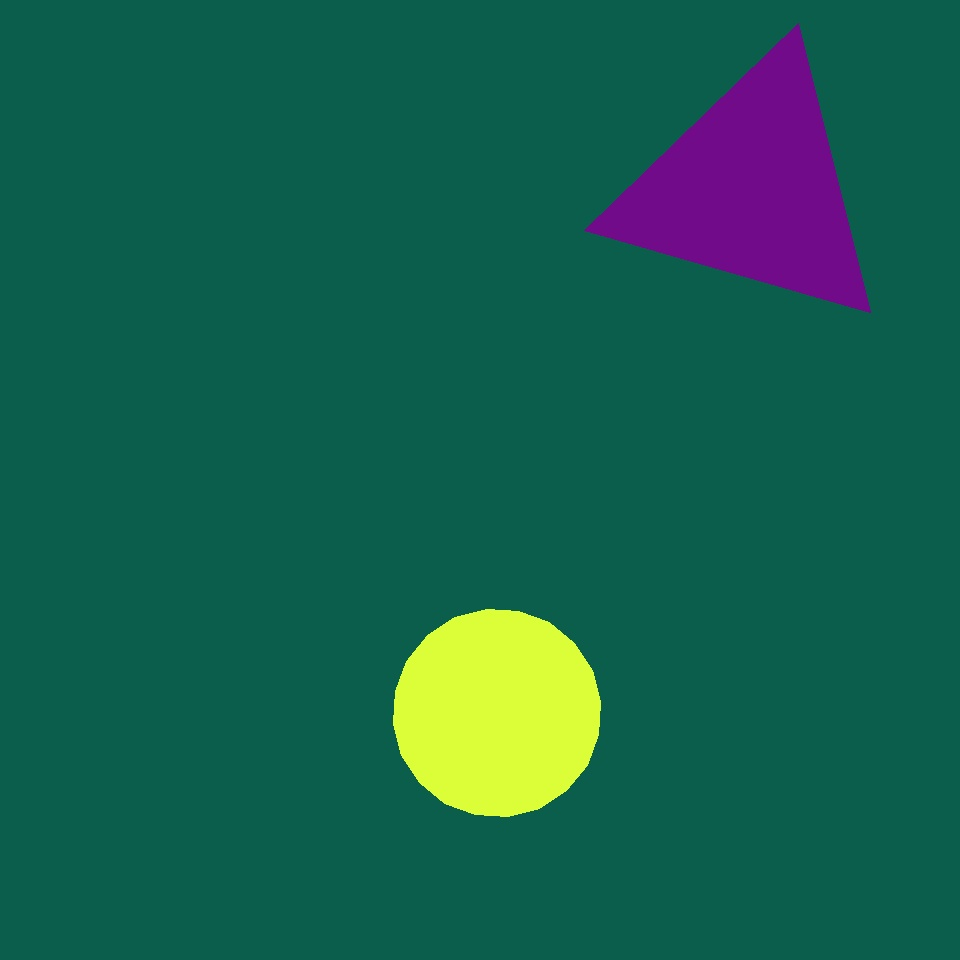circle: (608, 44, 894, 334)
triangle: (394, 610, 600, 816)
